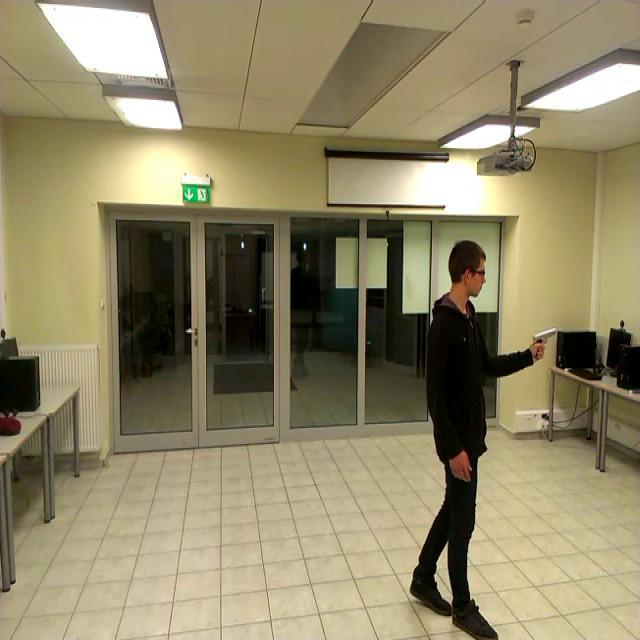Gun: (534, 327, 558, 358)
